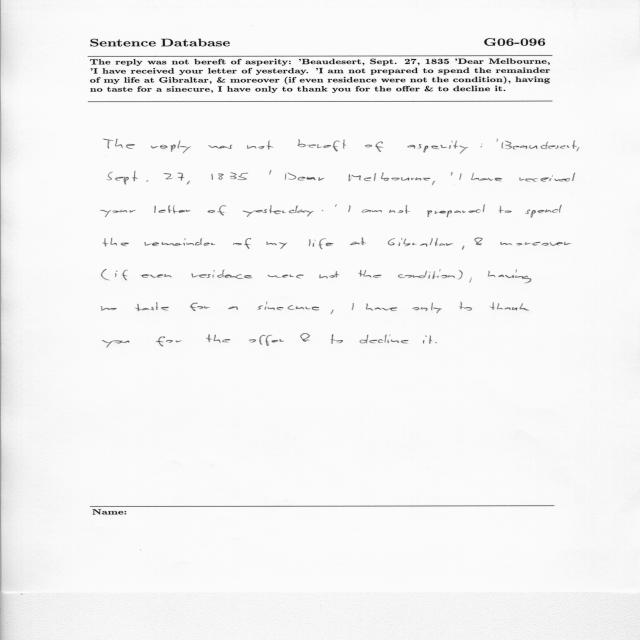word: (407, 140, 468, 154), (243, 205, 314, 217), (427, 205, 485, 218), (349, 173, 431, 182), (398, 270, 463, 280), (298, 139, 347, 152), (502, 141, 570, 150), (107, 171, 149, 185), (145, 238, 216, 246), (192, 270, 253, 279), (151, 141, 191, 154), (388, 238, 453, 246), (520, 173, 576, 182), (257, 302, 319, 310), (525, 205, 562, 218), (498, 270, 531, 284), (360, 335, 409, 344), (249, 335, 284, 346), (490, 302, 529, 311), (154, 205, 191, 214), (285, 173, 325, 181), (104, 139, 135, 149), (135, 302, 169, 311), (412, 303, 442, 313), (211, 172, 248, 180), (500, 242, 571, 246), (309, 238, 333, 249), (156, 337, 182, 347), (471, 173, 502, 181), (101, 210, 136, 217), (247, 141, 273, 150), (366, 304, 397, 311), (206, 334, 230, 343), (365, 141, 384, 152), (207, 205, 226, 216), (103, 238, 129, 246), (233, 238, 251, 249), (389, 205, 410, 214), (103, 340, 130, 347), (359, 270, 382, 278), (164, 173, 185, 181), (319, 271, 339, 279), (190, 303, 210, 311), (266, 242, 287, 249), (268, 275, 304, 279), (115, 270, 128, 281), (141, 274, 172, 278), (331, 334, 343, 344), (459, 302, 472, 311), (350, 238, 366, 245), (498, 206, 512, 213), (208, 145, 232, 149), (300, 333, 310, 342), (572, 141, 580, 152), (102, 269, 110, 280), (423, 335, 432, 344), (362, 209, 382, 213), (101, 306, 117, 311), (474, 238, 483, 246), (488, 271, 495, 277), (228, 306, 238, 310), (459, 173, 462, 180), (348, 206, 351, 213), (469, 278, 472, 283), (352, 303, 354, 310), (187, 181, 190, 185), (432, 181, 435, 185), (331, 310, 334, 314), (462, 245, 464, 250), (481, 144, 483, 148), (270, 171, 272, 175), (451, 172, 453, 175), (335, 204, 337, 207), (497, 139, 498, 142), (435, 342, 437, 343), (322, 210, 323, 211)
